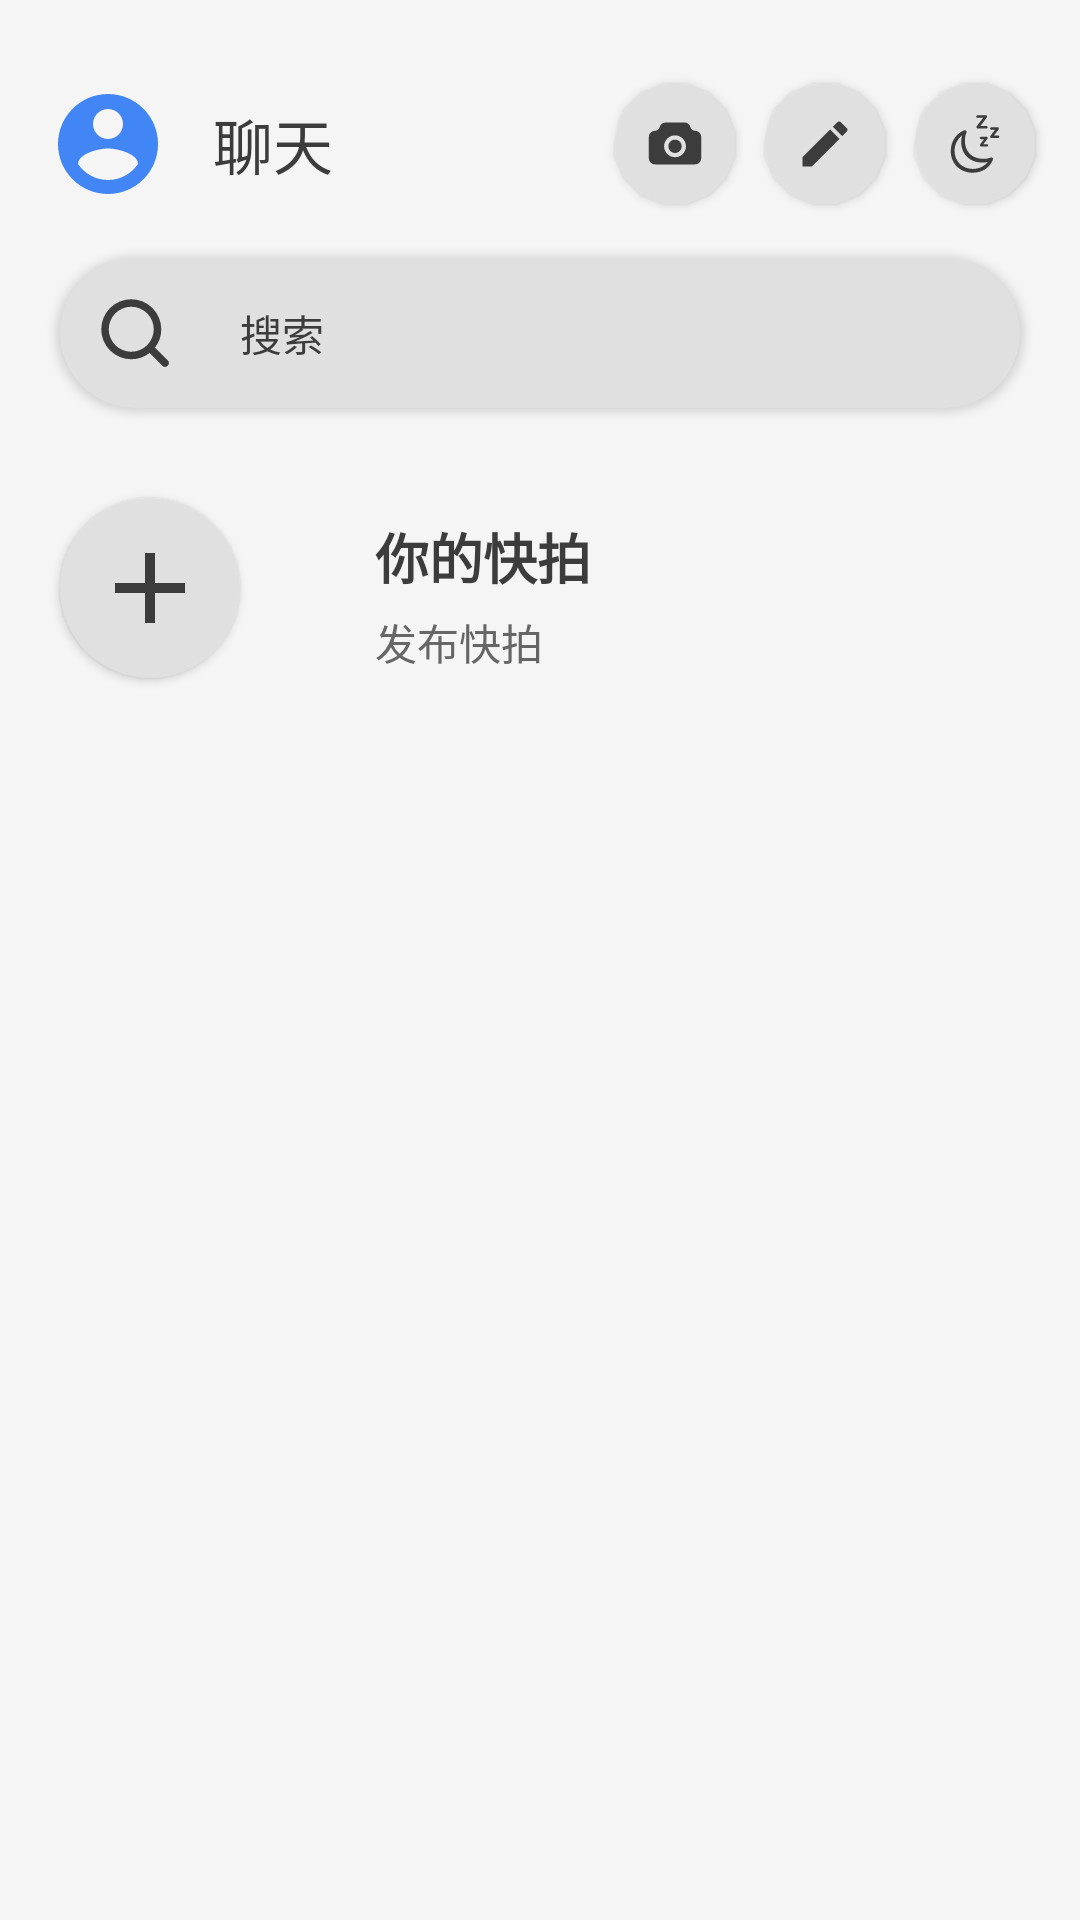

Named icons in this screenshot (1080px×1920px) and their bounding boxes, (x1, y1, x2, y2):
add: (115, 553, 185, 623)
camera: (648, 122, 702, 165)
moon: (950, 115, 1000, 173)
pencil: (802, 121, 848, 167)
search: (101, 299, 169, 367)
user: (58, 94, 158, 194)
